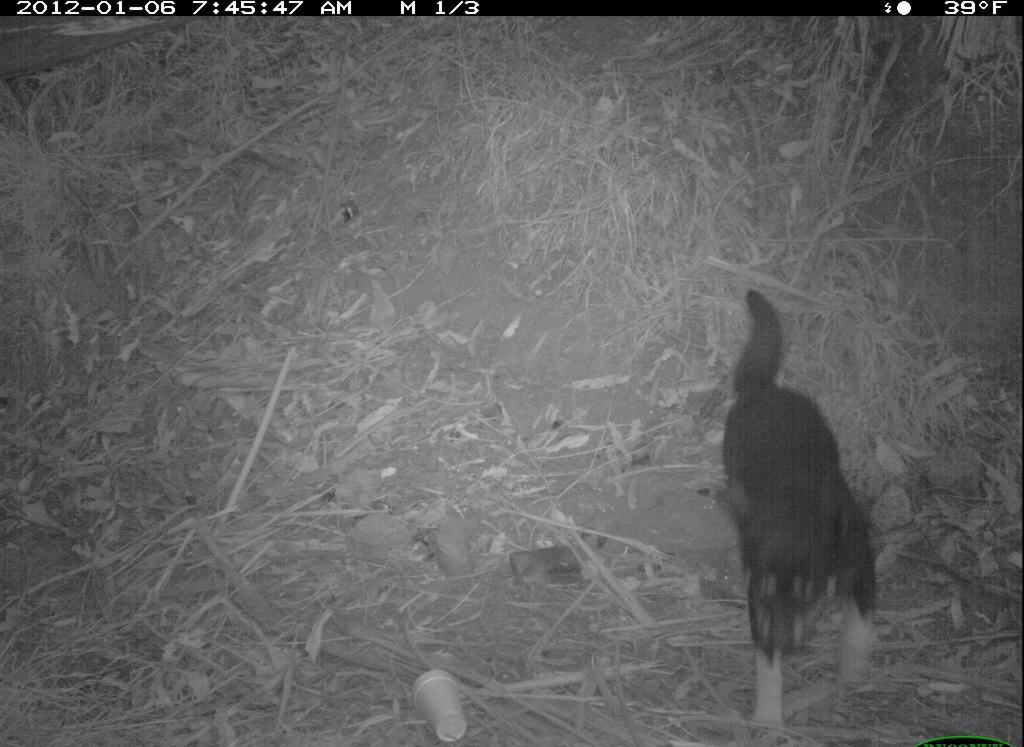dog: (689, 277, 897, 745)
